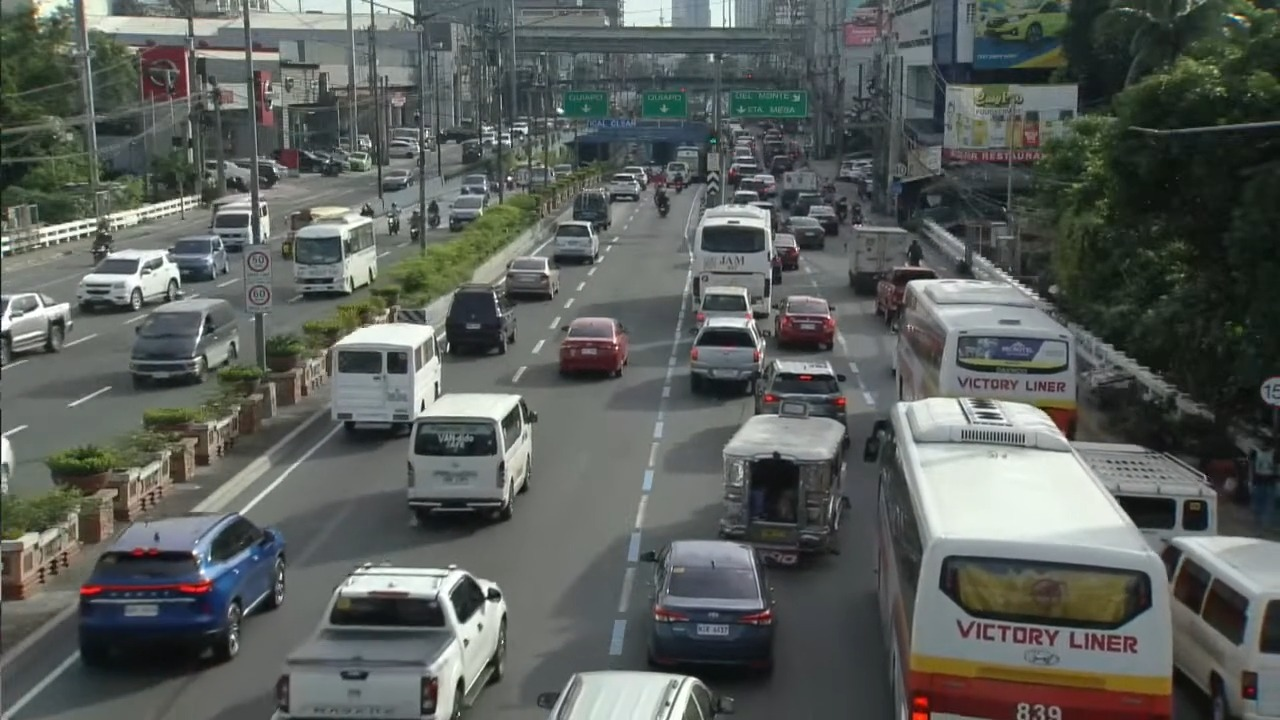bus: (864, 398, 1172, 719), (892, 279, 1078, 438), (691, 205, 779, 317), (293, 213, 377, 294), (281, 206, 351, 258)
car: (78, 513, 285, 667), (641, 540, 774, 672), (537, 671, 733, 719), (76, 249, 180, 311), (755, 359, 846, 426), (689, 317, 764, 393), (445, 283, 516, 353), (559, 317, 628, 376), (984, 0, 1067, 44), (774, 295, 836, 348), (169, 235, 228, 279), (504, 256, 559, 299), (695, 286, 753, 326), (552, 220, 600, 263), (233, 158, 286, 184), (784, 216, 825, 249), (449, 194, 485, 231), (748, 200, 780, 232), (807, 204, 838, 235), (774, 233, 799, 270), (608, 173, 641, 201), (791, 191, 824, 216), (727, 162, 759, 186), (460, 173, 492, 196), (382, 169, 414, 190), (837, 160, 869, 181), (737, 175, 765, 198), (297, 150, 326, 172), (622, 165, 648, 189), (440, 126, 479, 142), (387, 140, 420, 158), (768, 155, 794, 176), (754, 173, 776, 197), (348, 151, 372, 171), (731, 190, 760, 204), (733, 146, 756, 162), (553, 163, 573, 176)
motorcycle: (91, 233, 113, 263), (907, 245, 922, 266), (321, 161, 340, 176), (656, 198, 669, 217), (835, 203, 847, 222), (388, 215, 399, 234), (427, 213, 440, 228), (410, 224, 420, 242), (851, 210, 863, 223), (505, 175, 514, 190), (674, 180, 684, 193), (361, 206, 374, 216)
truck: (272, 564, 507, 719), (0, 292, 72, 365), (847, 225, 910, 295), (875, 266, 938, 327), (779, 170, 818, 207), (674, 145, 706, 182)
